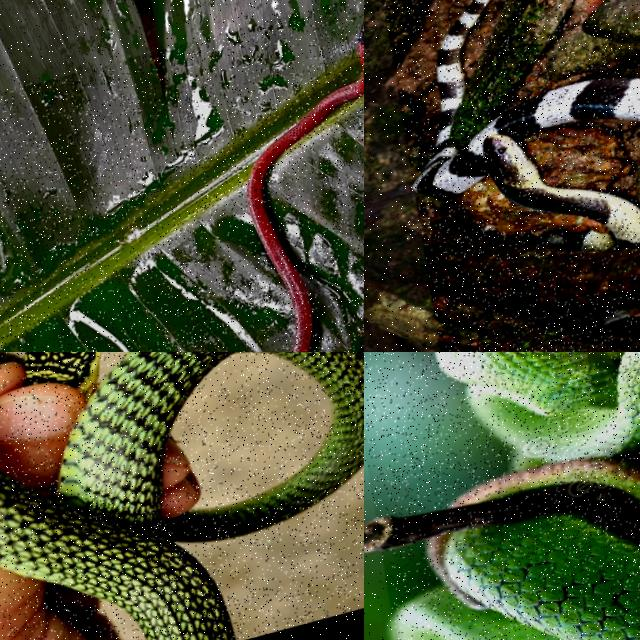Bungarus candidus: (415, 0, 639, 247)
Calliophis maculiceps: (247, 74, 363, 351)
Chrysopelea ornata: (0, 352, 363, 639)
Trimeresurus macrops: (437, 352, 639, 502)
snake: (0, 352, 363, 639), (415, 0, 639, 247), (247, 74, 363, 351), (437, 352, 639, 502)
